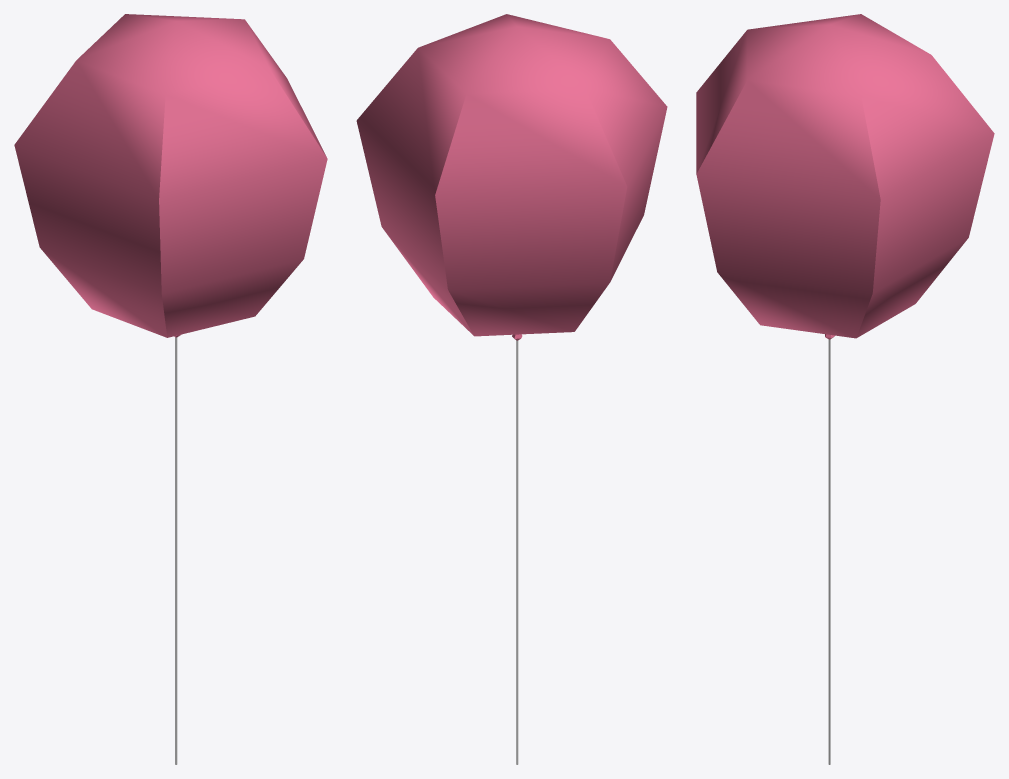
Rendered from BallonRose.fbx.
3 renders of one model, left to right at view 1: azimuth 30°, elevation 25°; view 2: azimuth 150°, elevation 25°; view 3: azimuth 270°, elevation 25°, orthographic.
Visible parts, largest first — view 1: Ballon1; view 2: Ballon1; view 3: Ballon1.
Boxes of the visible parts, x1,y1,x2,y2 form: Ballon1: (14, 14, 327, 764); Ballon1: (356, 14, 667, 764); Ballon1: (696, 14, 994, 764).
Size of the model in its own units: 0.8341 by 2.17 by 0.7932.
